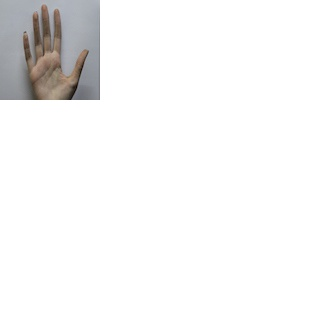paper: (18, 4, 89, 98)
